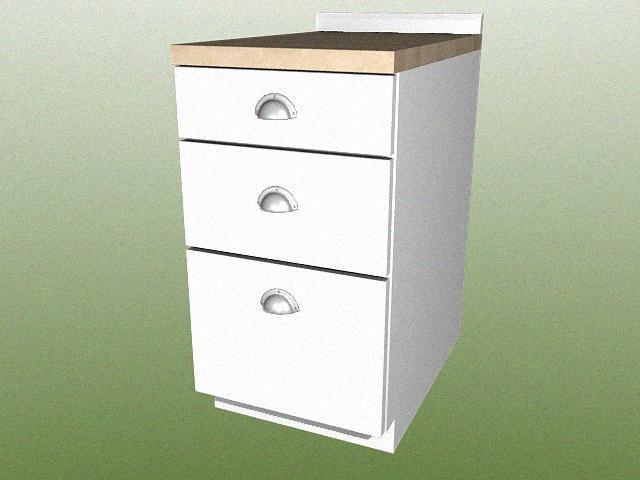cabinet_door: (192, 263, 384, 415), (184, 150, 389, 263), (178, 73, 392, 150)
handle: (259, 287, 297, 321), (257, 187, 295, 219), (254, 94, 295, 121)
